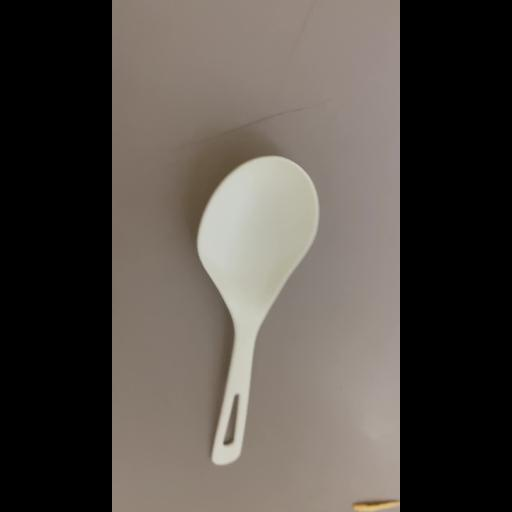utensil: (186, 148, 328, 476)
